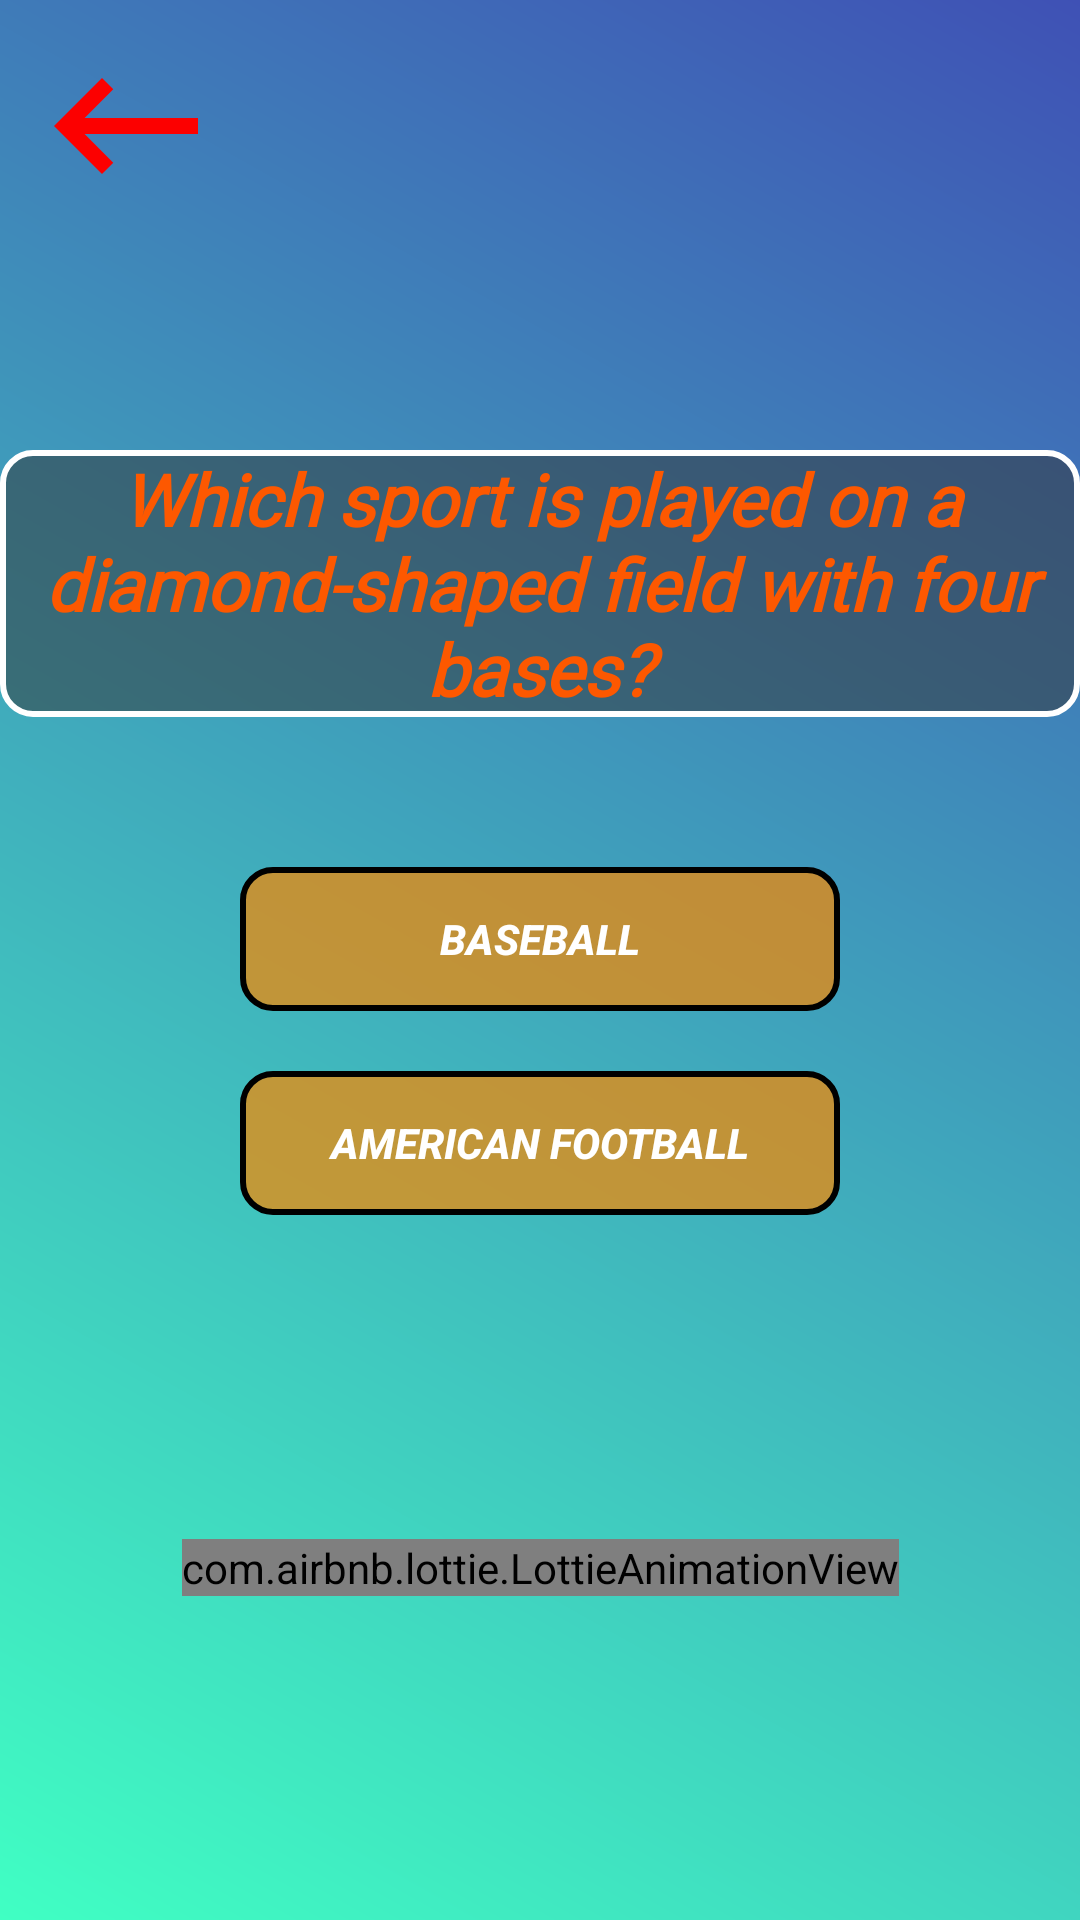

Where to tap for icons on this 1080x1920 app screen, as point (x, y):
back: point (126, 126)
